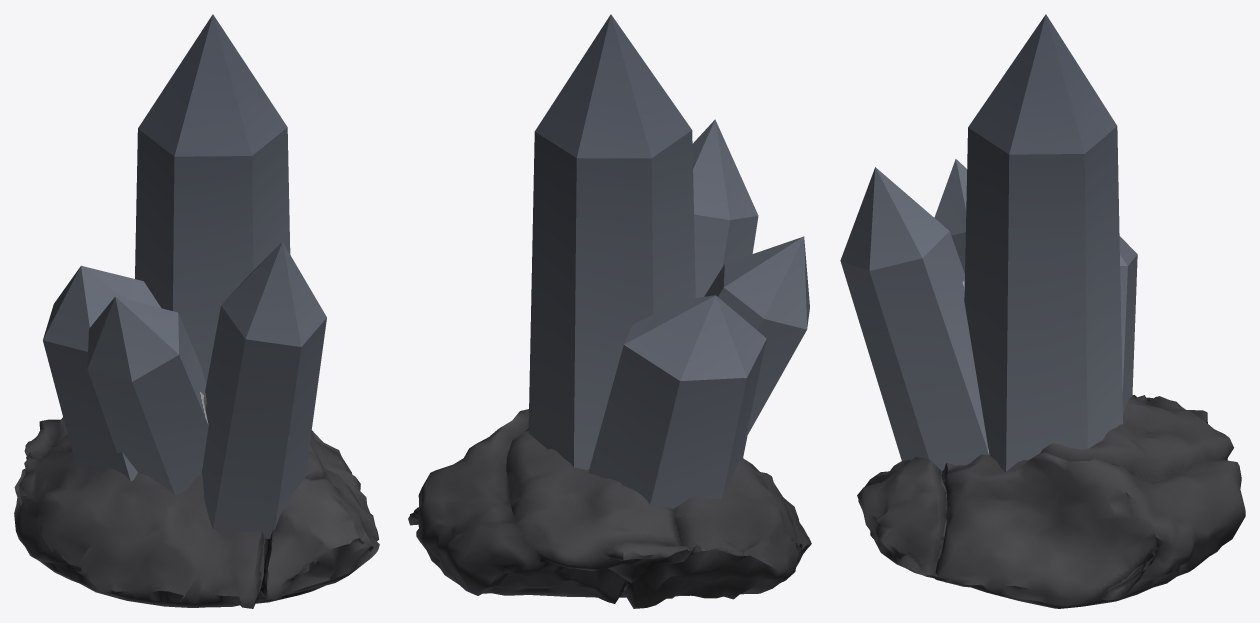
Rendered from cristal_tormenta.fbx.
3 views of the same model, side by side, from view 1: azimuth 30°, elevation 25°; view 2: azimuth 150°, elevation 25°; view 3: azimuth 270°, elevation 25° (orthographic). The views are drawn at different scales.
Parts seen in each view (by area): view 1: cristal_tormenta_cristal, cristal_tormenta; view 2: cristal_tormenta_cristal, cristal_tormenta; view 3: cristal_tormenta_cristal, cristal_tormenta.
Boxes of the visible parts, x1,y1,x2,y2 form: cristal_tormenta_cristal: (43, 14, 326, 538); cristal_tormenta: (14, 417, 379, 608); cristal_tormenta_cristal: (528, 14, 809, 508); cristal_tormenta: (408, 409, 811, 608); cristal_tormenta_cristal: (840, 14, 1137, 471); cristal_tormenta: (857, 395, 1245, 608).
Size of the model in its own units: 2.41 by 3.54 by 2.48.
Materials: 3 (3 with a texture image).
